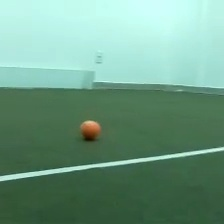ball: (78, 117, 102, 142)
goal: (1, 65, 96, 91)
